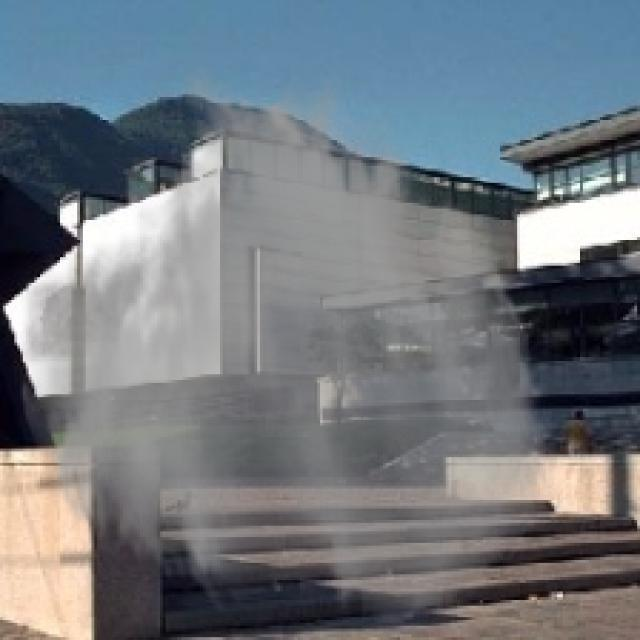Smoke: (14, 62, 560, 628)
